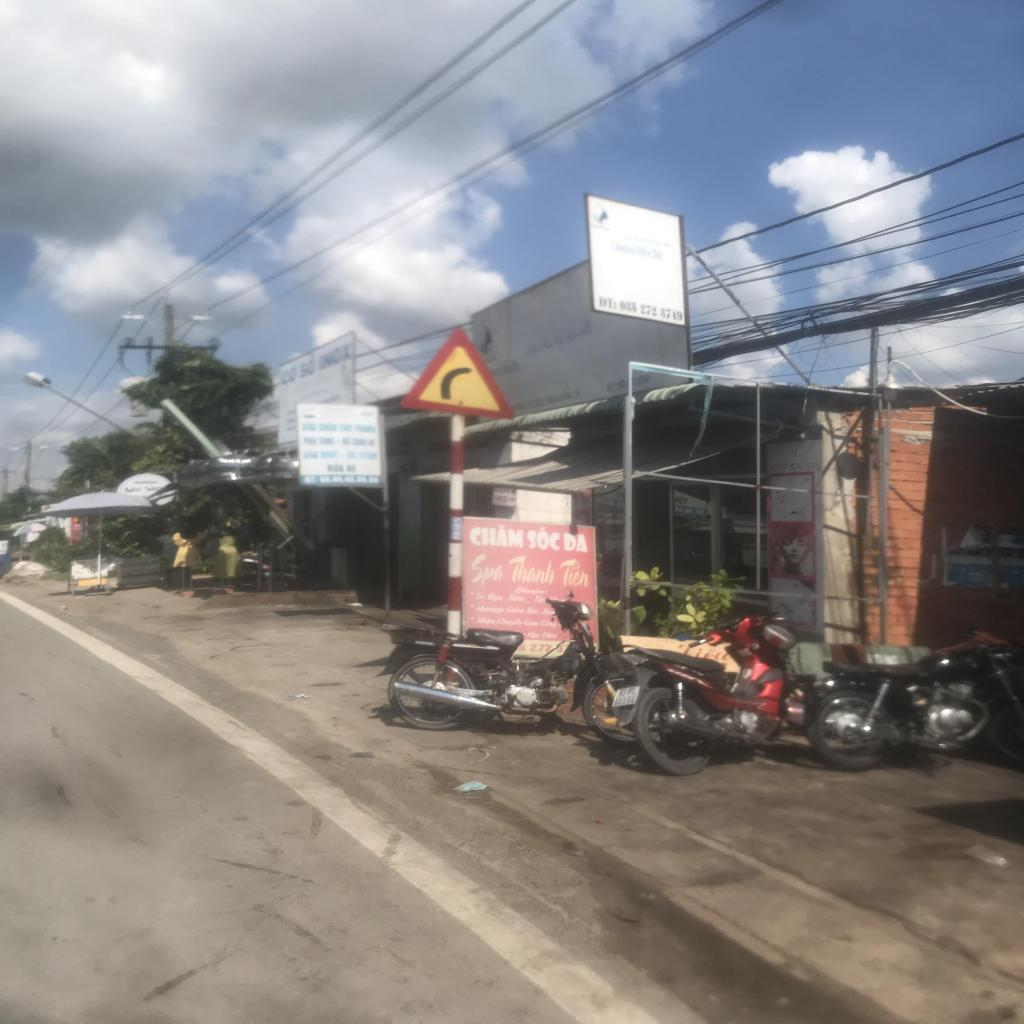cho_ngoat_nguy_hiem_ben_phai: (400, 324, 519, 420)
